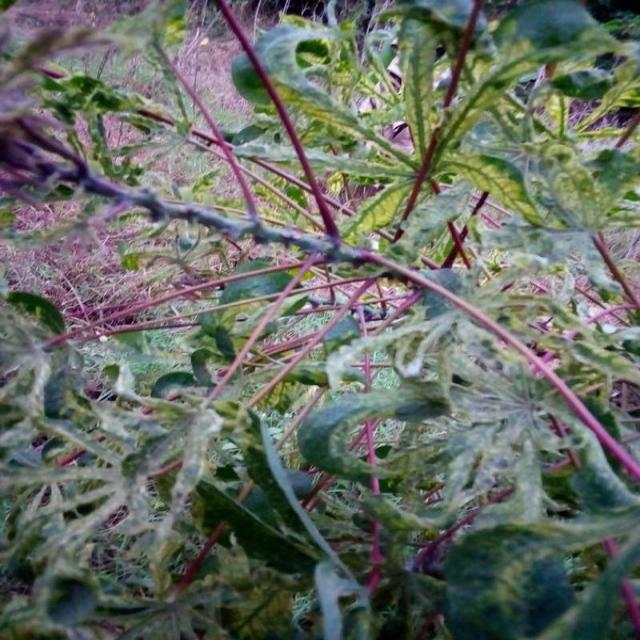cassava leaf: (2, 0, 640, 638), (298, 385, 446, 482)
